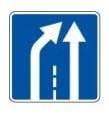road_sign: (8, 9, 101, 104)
